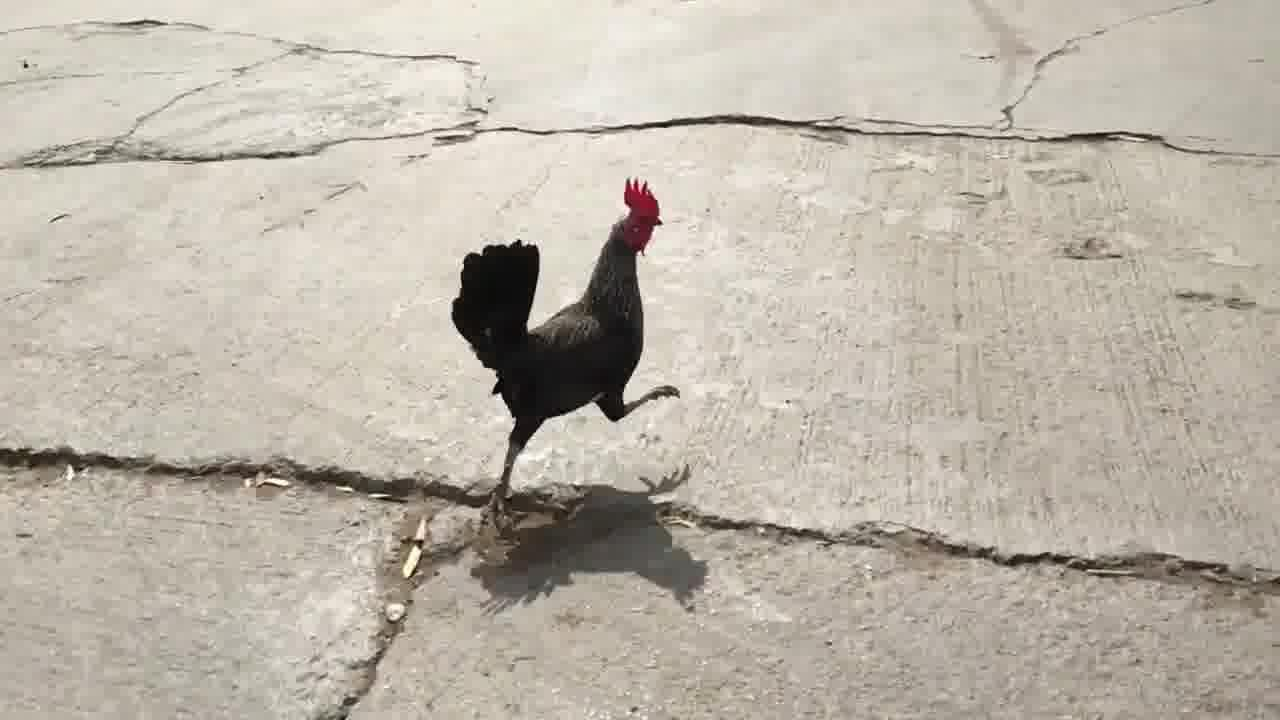Normal: (450, 174, 712, 510)
